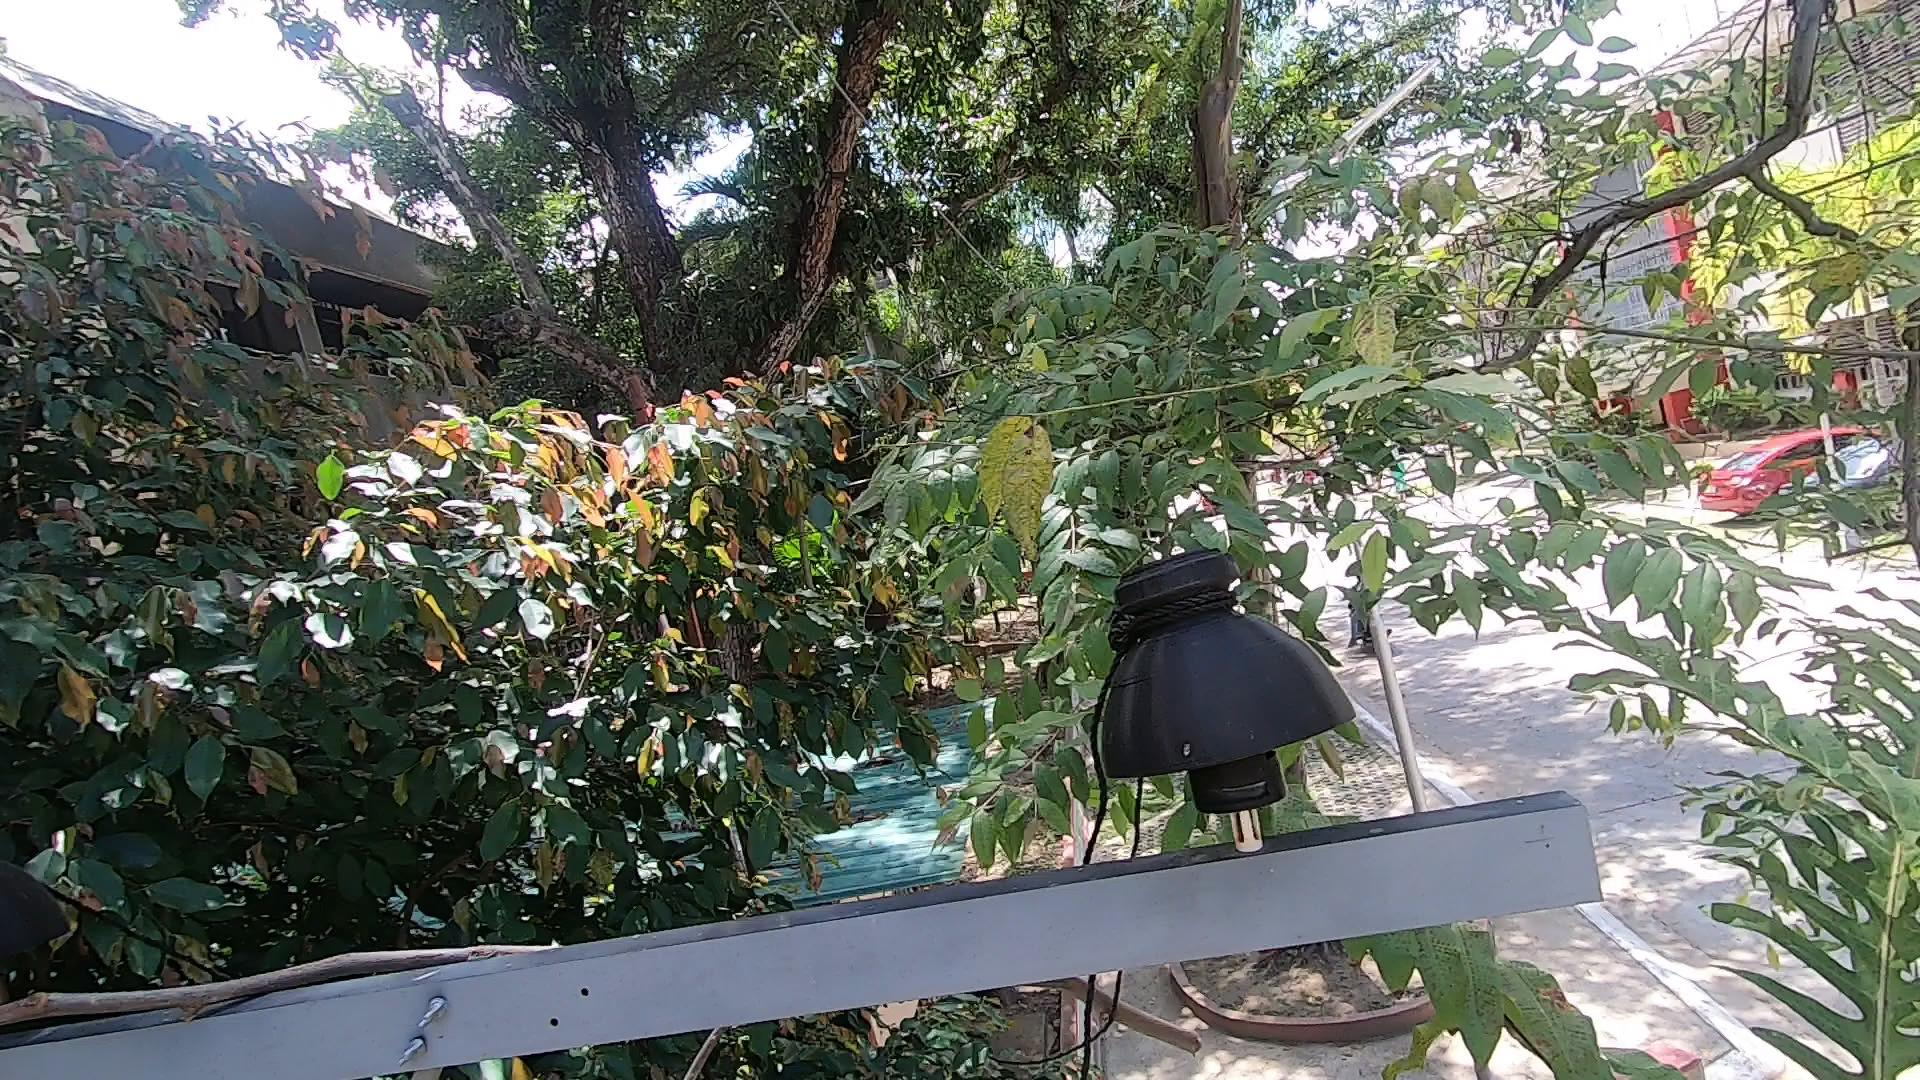tree branch: (1, 931, 547, 1054), (1013, 980, 1218, 1069), (680, 1027, 728, 1080)
